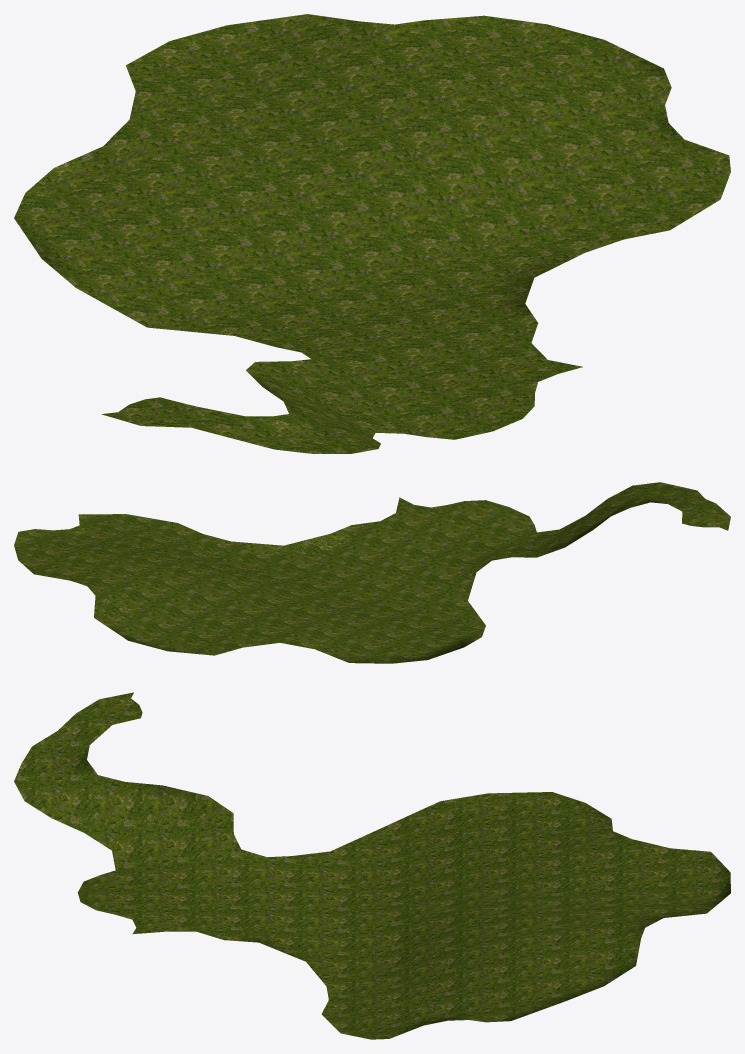
The model's file is OVERHILL_A_01_OBJECT44.fbx.
The picture shows the model from 3 angles, top to bottom: view 1: azimuth 30°, elevation 25°; view 2: azimuth 150°, elevation 25°; view 3: azimuth 270°, elevation 25°; orthographic projection. The views are drawn at different scales.
Parts seen in each view (by area): view 1: OVERHILL_A_01_OBJECT44; view 2: OVERHILL_A_01_OBJECT44; view 3: OVERHILL_A_01_OBJECT44.
Boxes of the visible parts, x1,y1,x2,y2 form: OVERHILL_A_01_OBJECT44: (14,14,730,453); OVERHILL_A_01_OBJECT44: (14,482,730,663); OVERHILL_A_01_OBJECT44: (14,692,730,1039).
Size of the model in its own units: 274898 by 28431 by 268399.
Materials: 1 (1 with a texture image).
